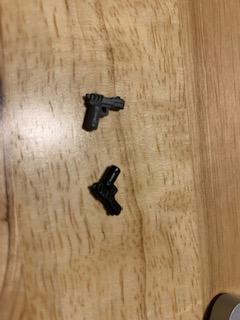pistol: (84, 160, 132, 224), (79, 92, 126, 131)
